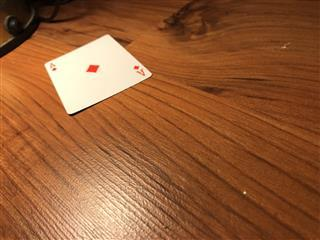AceOfDiamonds: (44, 33, 151, 114)
